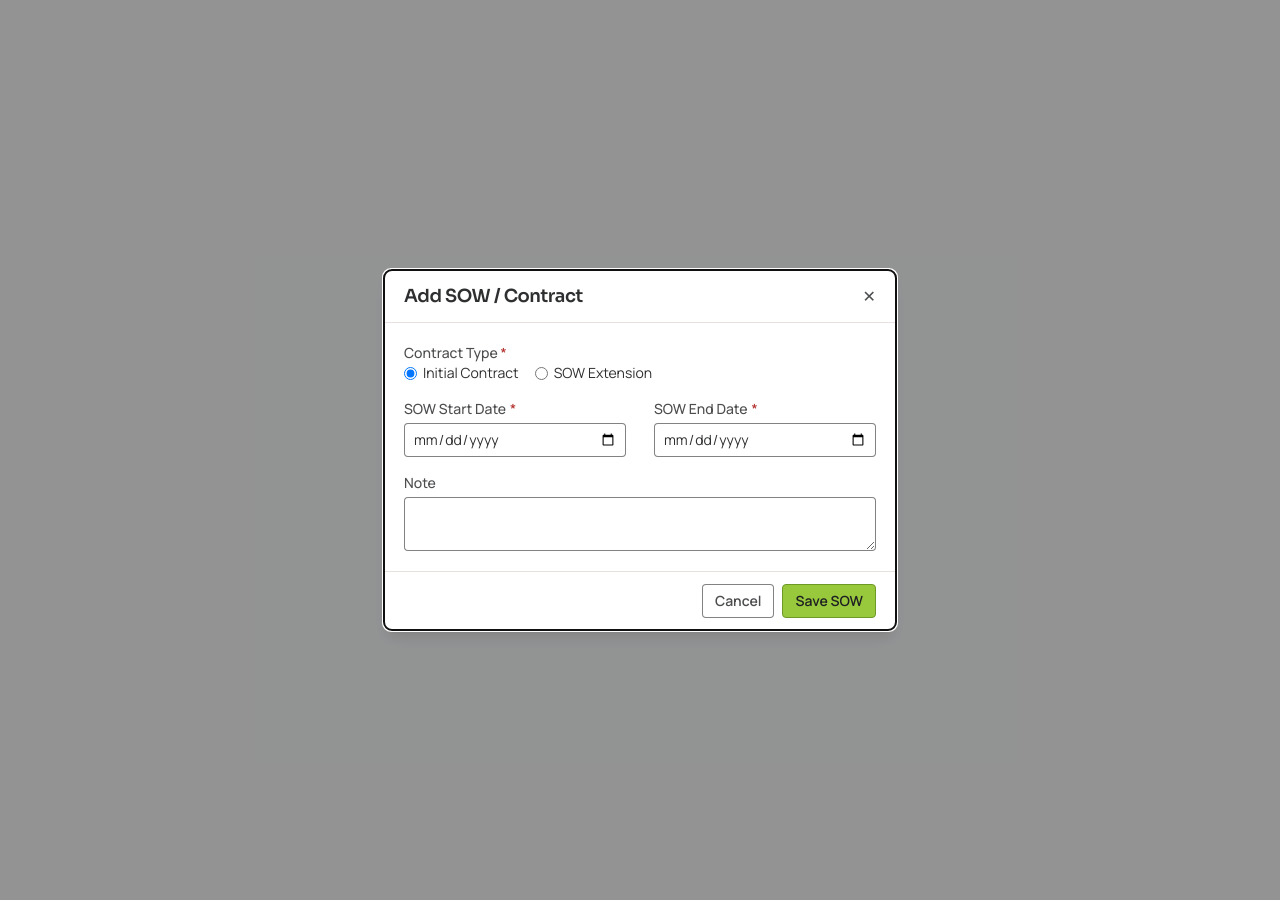
Test case: SowForm › create mode › hides the rate-increase control again when switching back to Initial Contract
Step 1. Click the radio button labelled "SOW Extension" → (541, 373), box [535,366,548,380]
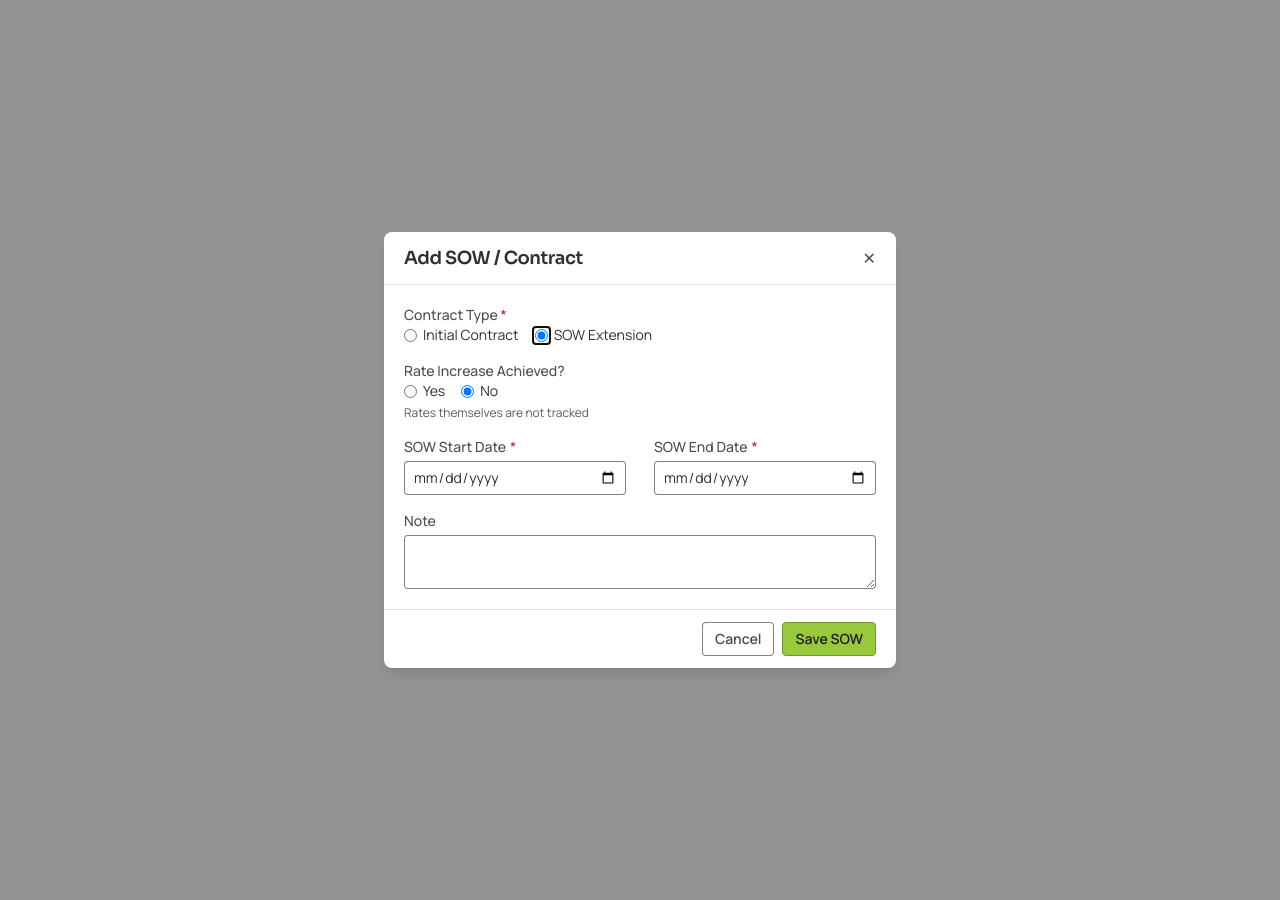
expect the text "Rate Increase Achieved?" is shown: met, box [404,361,565,381]
Step 2. Click the radio button labelled "Initial Contract" → (410, 335), box [404,328,417,342]
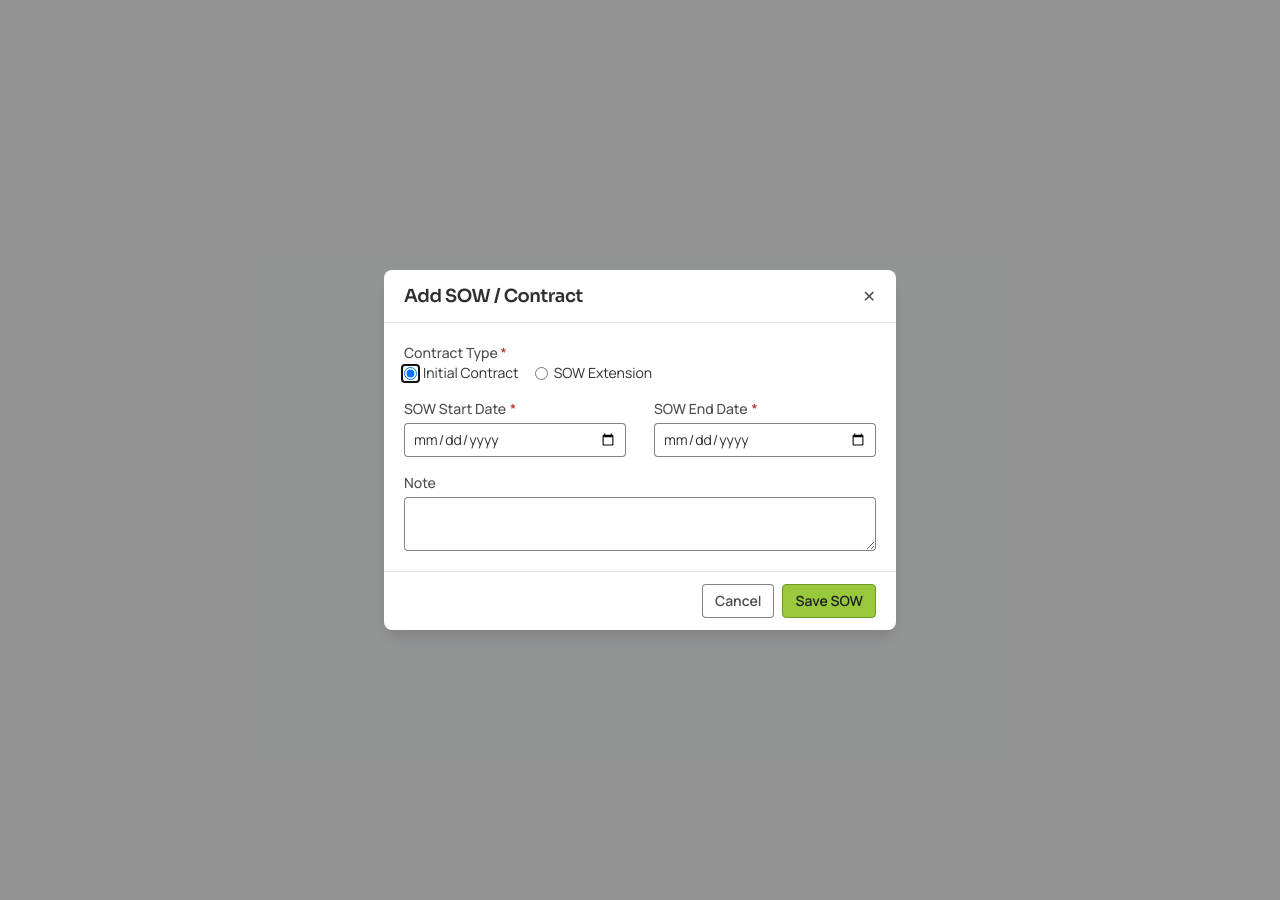
expect the text "Rate Increase" is gone: met
